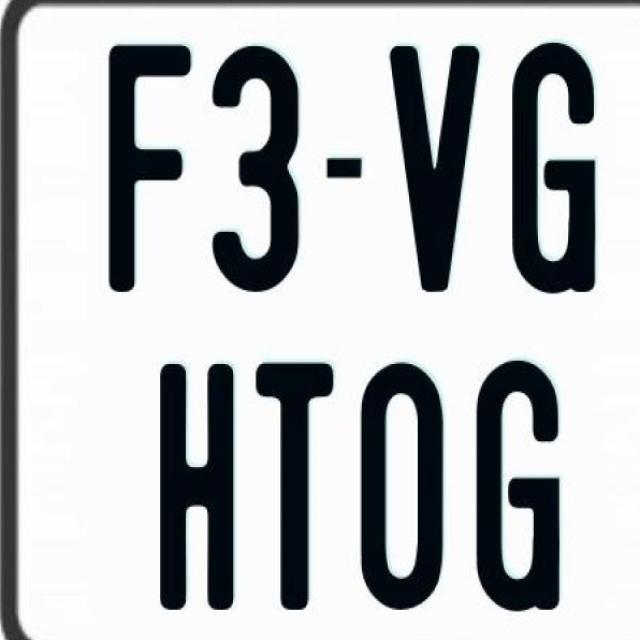license-plate: (42, 36, 640, 640)
